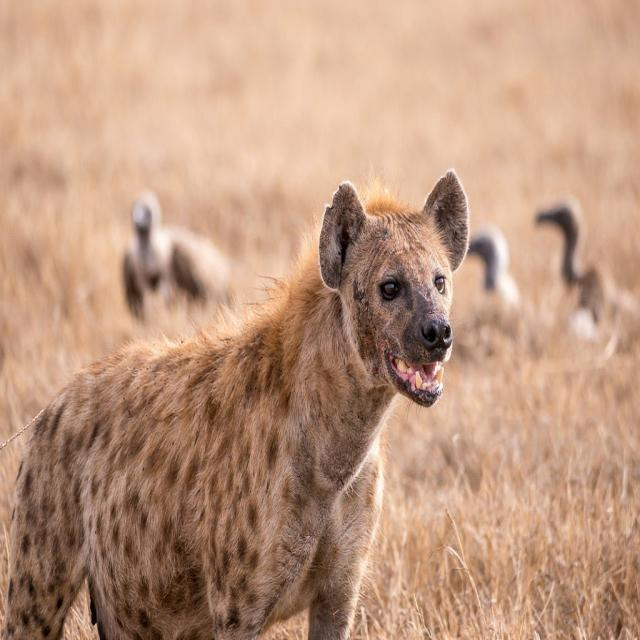Hyena: (0, 170, 466, 640)
